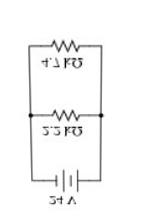resistor: (46, 36, 83, 53), (47, 105, 86, 121)
